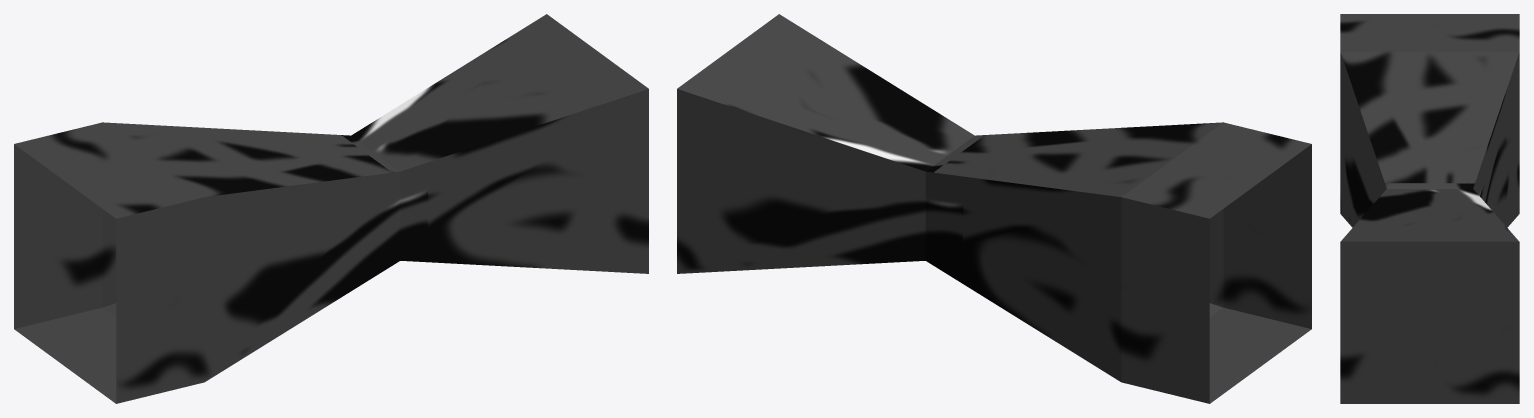
Rendered from cursor.dae.
The picture shows the model from 3 angles, left to right: view 1: azimuth 30°, elevation 25°; view 2: azimuth 150°, elevation 25°; view 3: azimuth 270°, elevation 25°; orthographic projection. The views are drawn at different scales.
Visible parts, largest first — view 1: Cube; view 2: Cube; view 3: Cube.
Part boxes in pixels (bbox=[...]): Cube: bbox=[14, 14, 648, 403]; Cube: bbox=[677, 14, 1311, 403]; Cube: bbox=[1340, 14, 1519, 403].
Bounding box in the file's own units: 6.02 × 2 × 2.
1 material, 1 textured.
